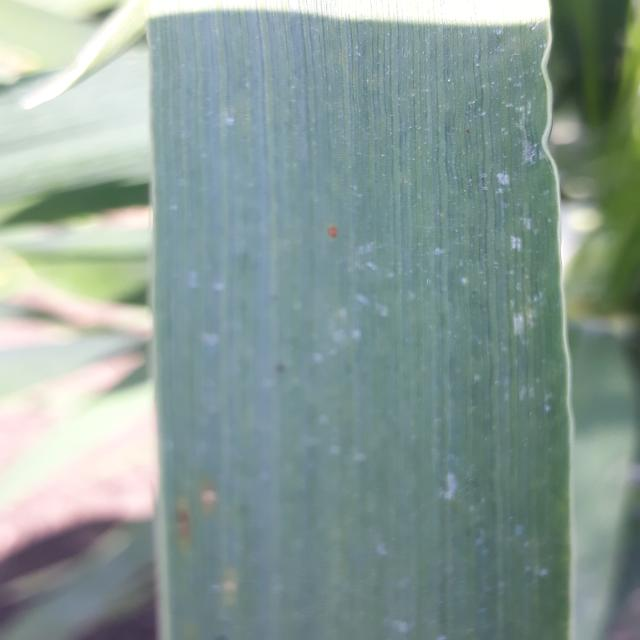orang_rust: (141, 440, 287, 640), (275, 208, 378, 270)
